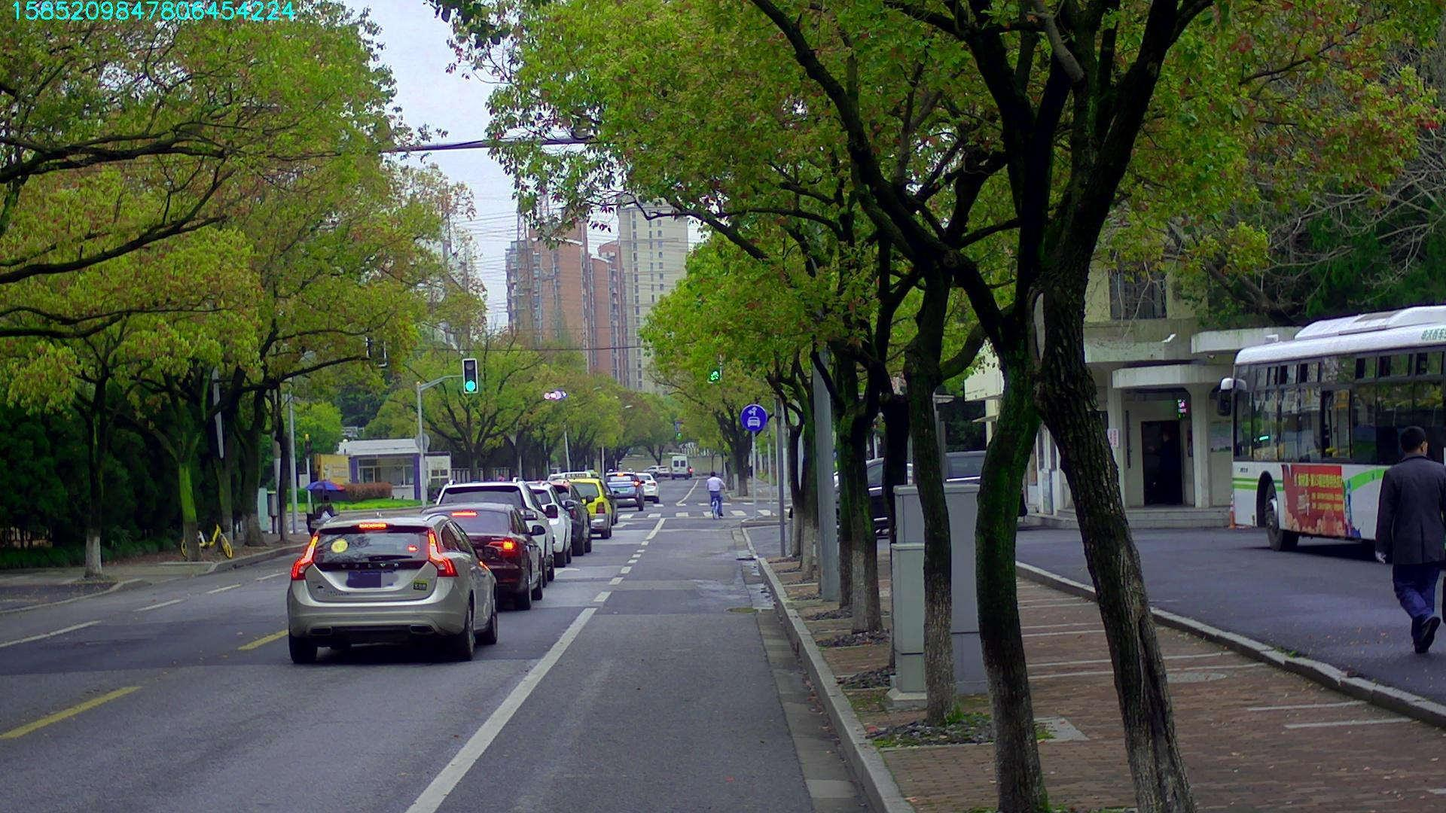green: (462, 358, 477, 392), (708, 355, 719, 382)
